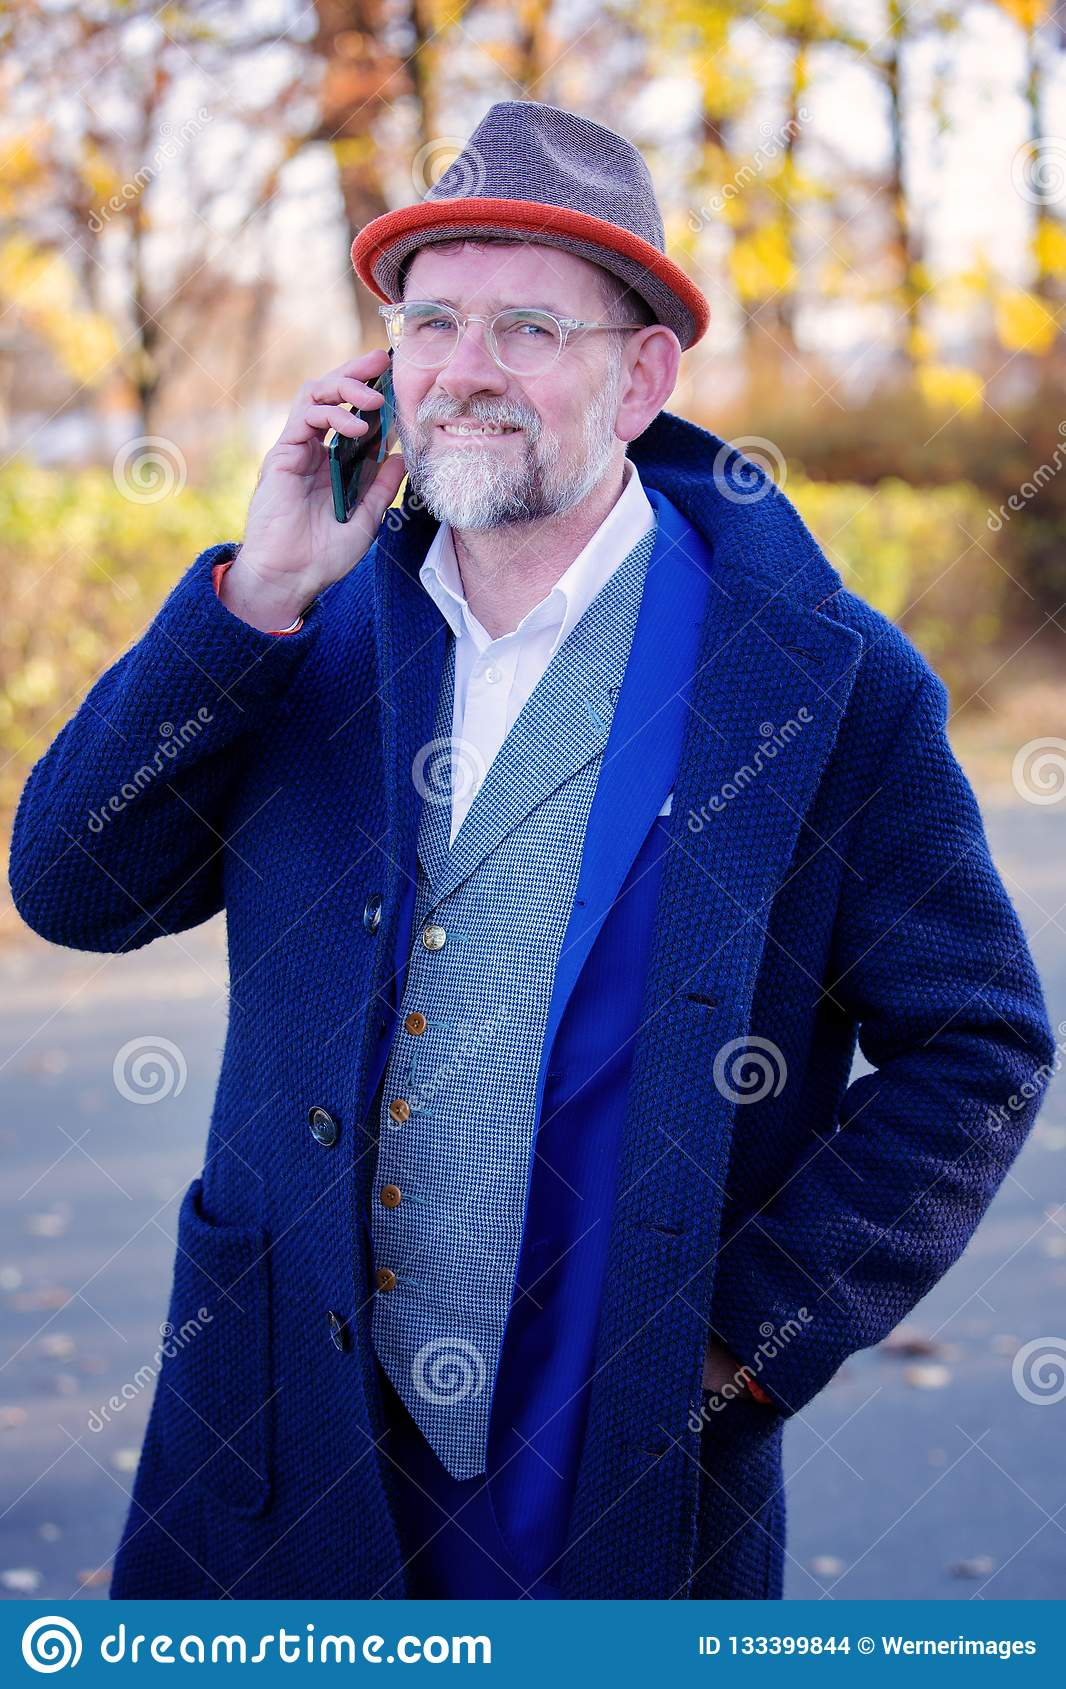phone: (323, 335, 402, 528)
talk: (232, 286, 575, 610)
